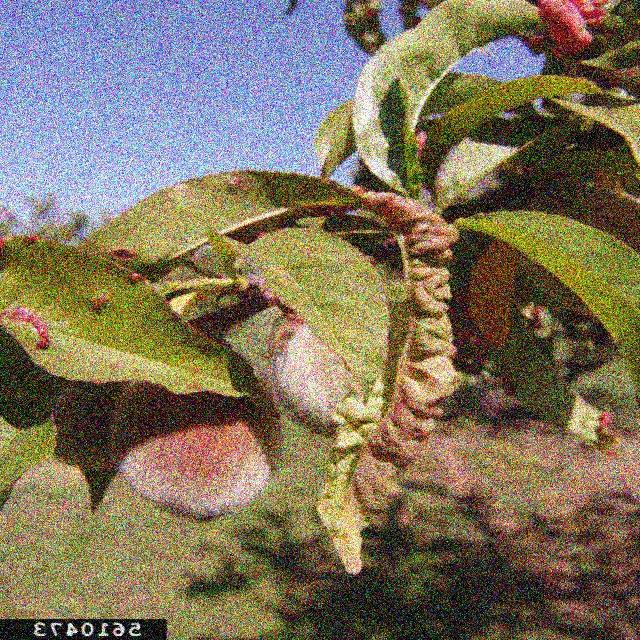leaf_curl: (257, 171, 513, 590)
